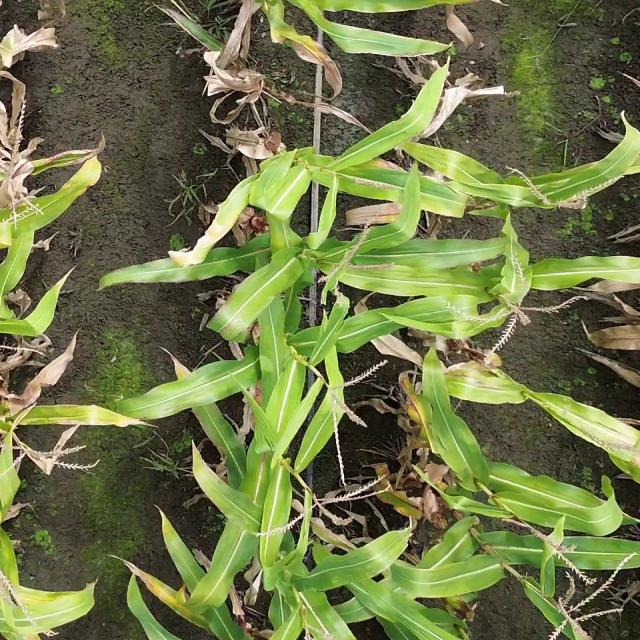northern-leaf-blight: (5, 391, 142, 452), (267, 21, 364, 103), (383, 372, 462, 463), (28, 132, 114, 206), (362, 449, 439, 531), (134, 562, 212, 628)
southern-leaf-blight: (319, 547, 390, 589)
